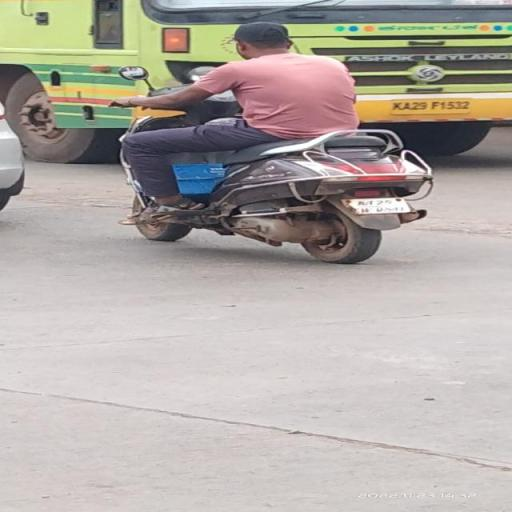bike: (104, 20, 466, 270)
withouthelmet: (236, 23, 287, 55)
